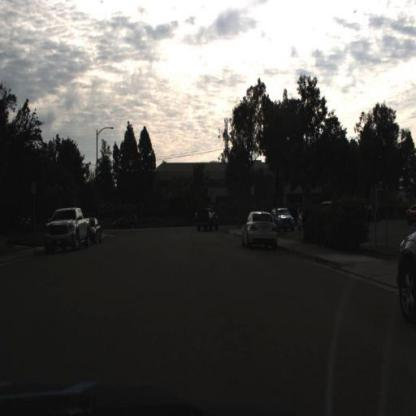car: (45, 204, 91, 254), (241, 204, 280, 251), (242, 209, 280, 250), (196, 202, 220, 237), (275, 207, 298, 237), (112, 210, 140, 234), (112, 212, 142, 234), (88, 216, 106, 247)
